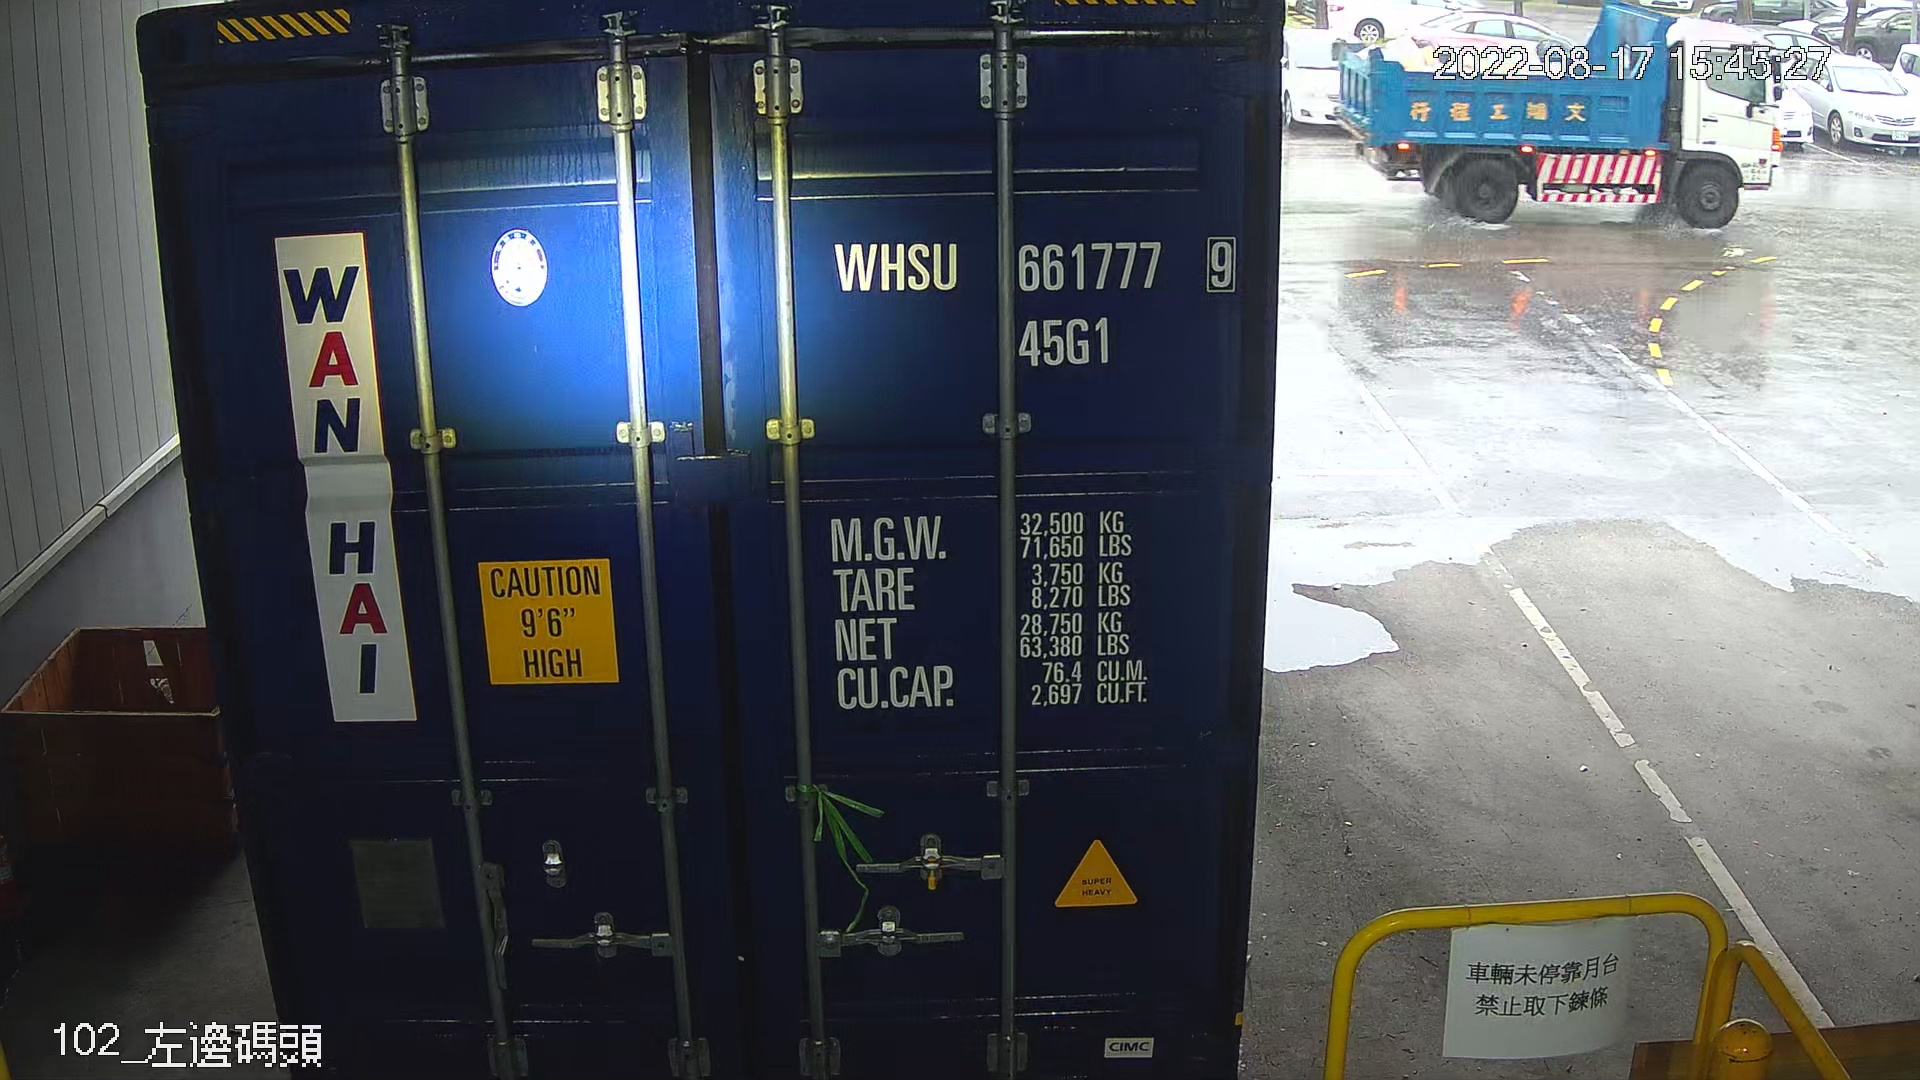container: (823, 222, 1254, 377)
